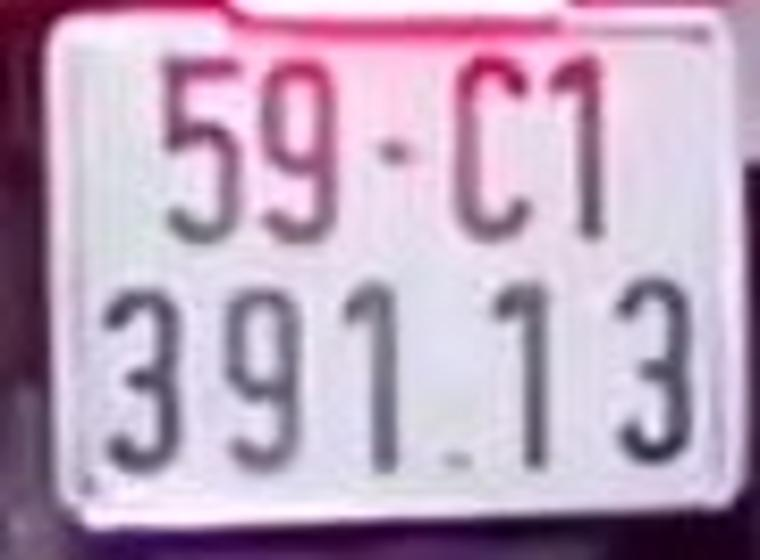-: (374, 138, 410, 167)
.: (444, 454, 473, 472)
1: (340, 281, 404, 481), (492, 275, 550, 471), (546, 51, 605, 240)
3: (609, 279, 693, 461), (103, 285, 184, 472)
5: (162, 56, 243, 245)
9: (258, 54, 341, 246), (221, 287, 301, 472)
C: (449, 52, 533, 240)
